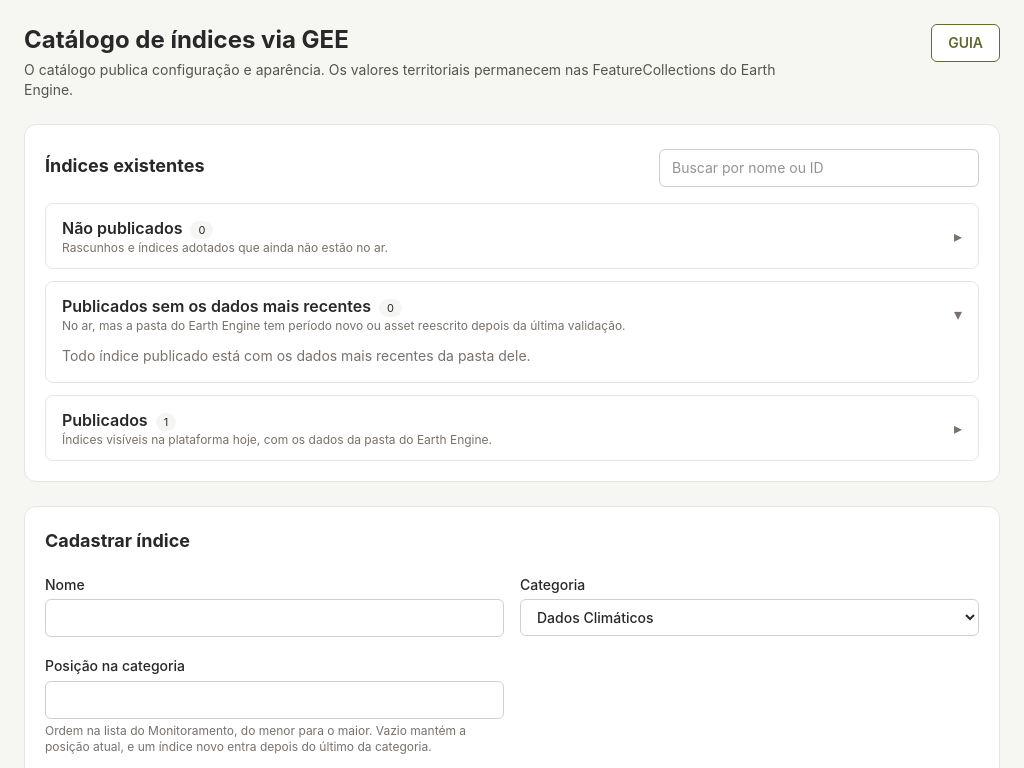
Scenario: IndexCatalogScreen v2 › não oferece Republicar quando não há alteração pendente
What coordinates should you click on to do the following:
click the button "Publicados"
I would click on:
 (105, 420)
Its box is [46,396,978,460].
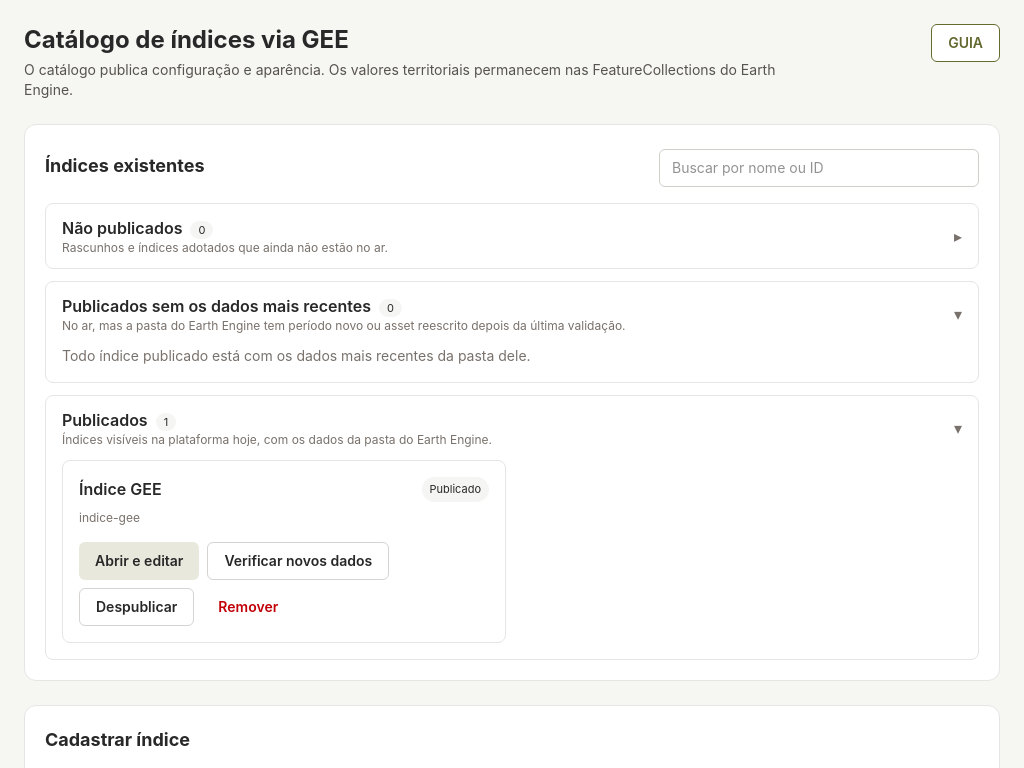
Now the button "Despublicar" is shown, box [79,588,194,626]
